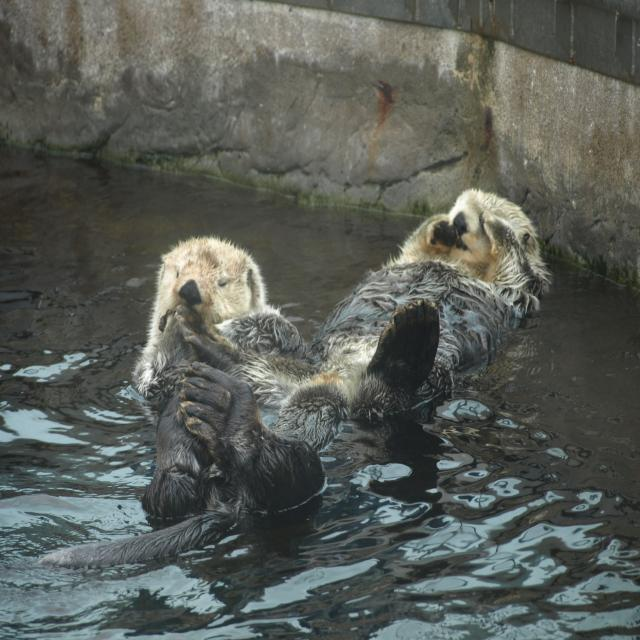otter: (293, 190, 546, 414), (139, 237, 326, 520)
